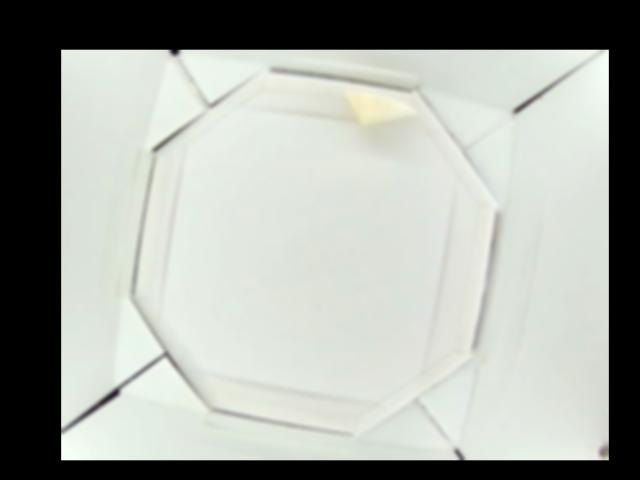Mooli: (345, 89, 416, 124)
